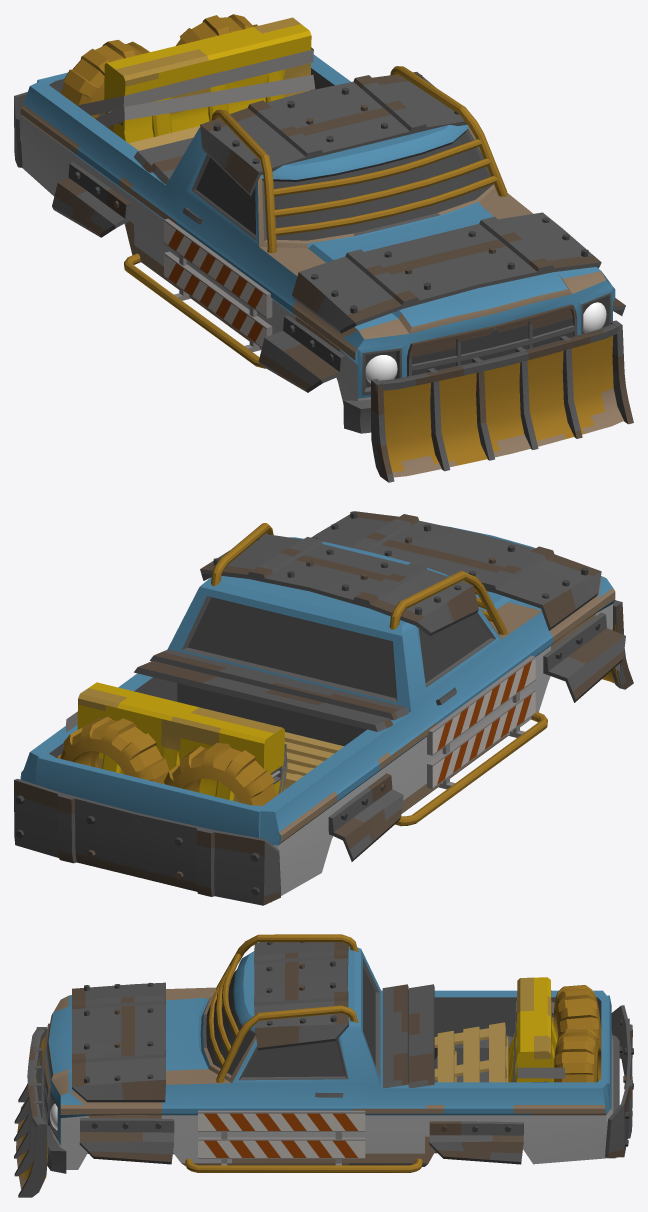
Rendered from pickup_armored_lev1.glb.
The picture shows the model from 3 angles, top to bottom: view 1: azimuth 30°, elevation 25°; view 2: azimuth 150°, elevation 25°; view 3: azimuth 270°, elevation 25°; orthographic projection. The views are drawn at different scales.
Parts seen in each view (by area): view 1: pickup_armored_lev1; view 2: pickup_armored_lev1; view 3: pickup_armored_lev1.
Boxes of the visible parts, x1=… form: pickup_armored_lev1: x1=14, y1=14, x2=633, y2=482; pickup_armored_lev1: x1=14, y1=511, x2=633, y2=905; pickup_armored_lev1: x1=14, y1=934, x2=633, y2=1197.
Bounding box in the file's own units: 2.15 × 1.42 × 4.48.
2 materials, 1 textured.
